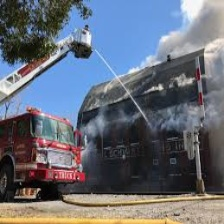smoke: (155, 10, 221, 91), (159, 107, 215, 132), (85, 116, 121, 145)
